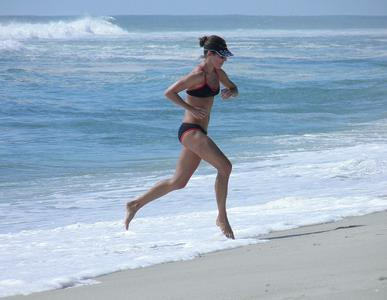person: (124, 34, 240, 242)
